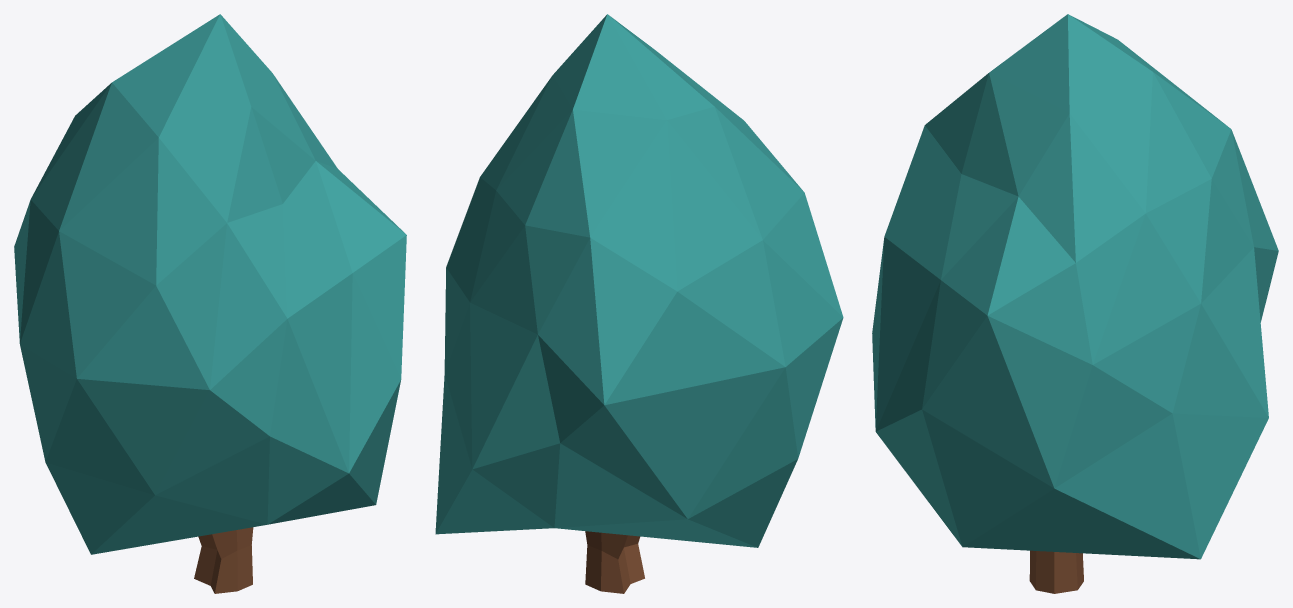
File: Tree_55_Blue.fbx
3 views of the same model, side by side, from view 1: azimuth 30°, elevation 25°; view 2: azimuth 150°, elevation 25°; view 3: azimuth 270°, elevation 25° (orthographic).
Visible parts, largest first — view 1: Tree_55_Blue_Part_1, Tree_55_Blue_Part_2; view 2: Tree_55_Blue_Part_1, Tree_55_Blue_Part_2; view 3: Tree_55_Blue_Part_1, Tree_55_Blue_Part_2.
Part boxes in pixels (x1,y1,x2,y2): Tree_55_Blue_Part_1: (14, 14, 406, 554); Tree_55_Blue_Part_2: (194, 527, 253, 593); Tree_55_Blue_Part_1: (435, 14, 843, 547); Tree_55_Blue_Part_2: (585, 531, 644, 593); Tree_55_Blue_Part_1: (872, 14, 1278, 559); Tree_55_Blue_Part_2: (1029, 550, 1083, 593).
Bounding box in the file's own units: 515 × 795 × 516.
